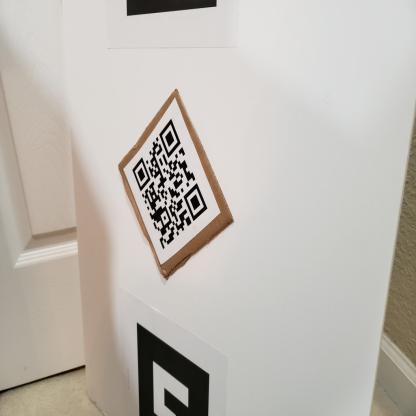qr: (127, 119, 216, 253)
